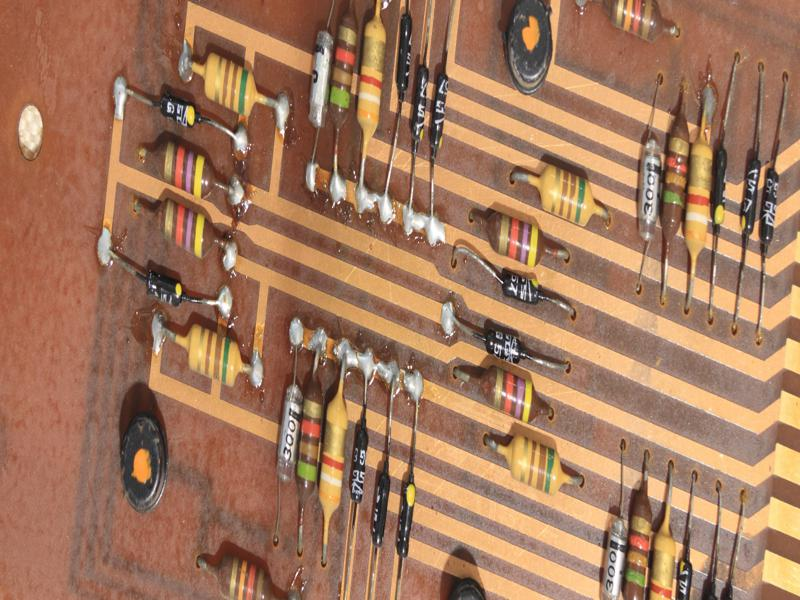Resistor: (655, 99, 696, 254), (194, 44, 267, 122), (175, 317, 250, 392), (529, 156, 601, 233), (497, 433, 578, 498), (147, 131, 220, 203), (684, 123, 718, 268), (151, 189, 217, 263), (356, 11, 392, 146), (326, 6, 362, 138), (316, 388, 351, 520), (477, 361, 548, 426), (480, 206, 552, 269), (296, 376, 326, 509), (207, 545, 277, 600), (623, 487, 655, 600)
